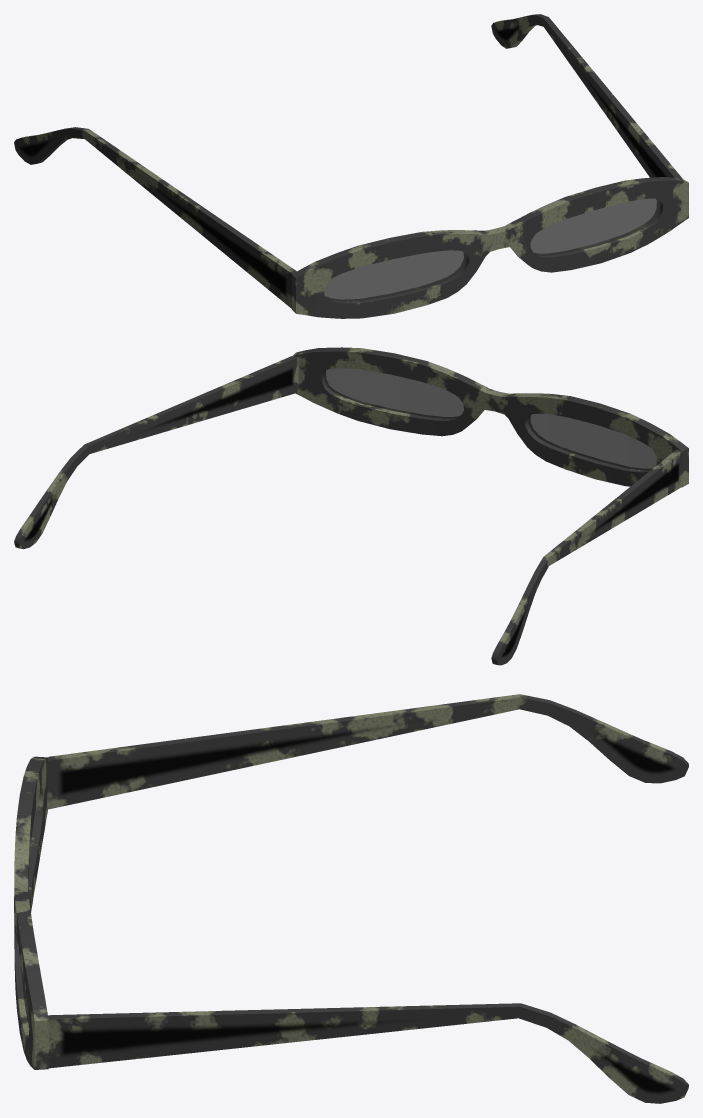
File: SK_WideGlassesF.glb
3 renders of one model, top to bottom at view 1: azimuth 30°, elevation 25°; view 2: azimuth 150°, elevation 25°; view 3: azimuth 270°, elevation 25°, orthographic. The views are drawn at different scales.
Parts seen in each view (by area): view 1: SK_WideGlassesF; view 2: SK_WideGlassesF; view 3: SK_WideGlassesF.
Part boxes in pixels (x1,y1,x2,y2): SK_WideGlassesF: (14,14,688,318); SK_WideGlassesF: (14,347,688,665); SK_WideGlassesF: (14,694,688,1103).
Size of the model in its own units: 0.1806 by 0.0293 by 0.1587.
Materials: 1 (1 with a texture image).
